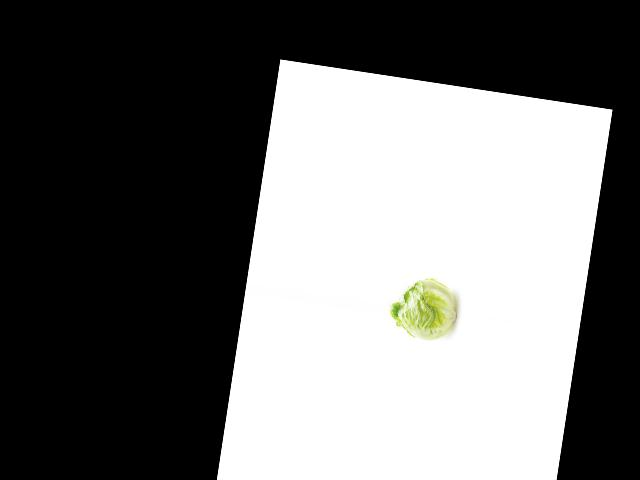lettuce: (385, 267, 464, 346)
